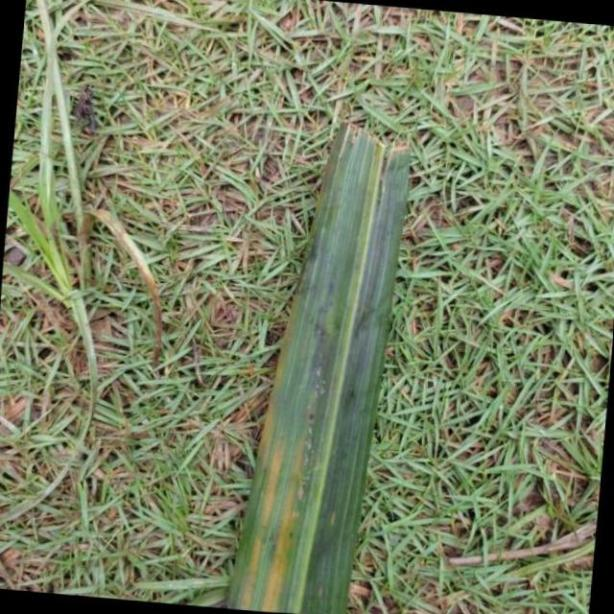Megnesium: (222, 118, 412, 614)
